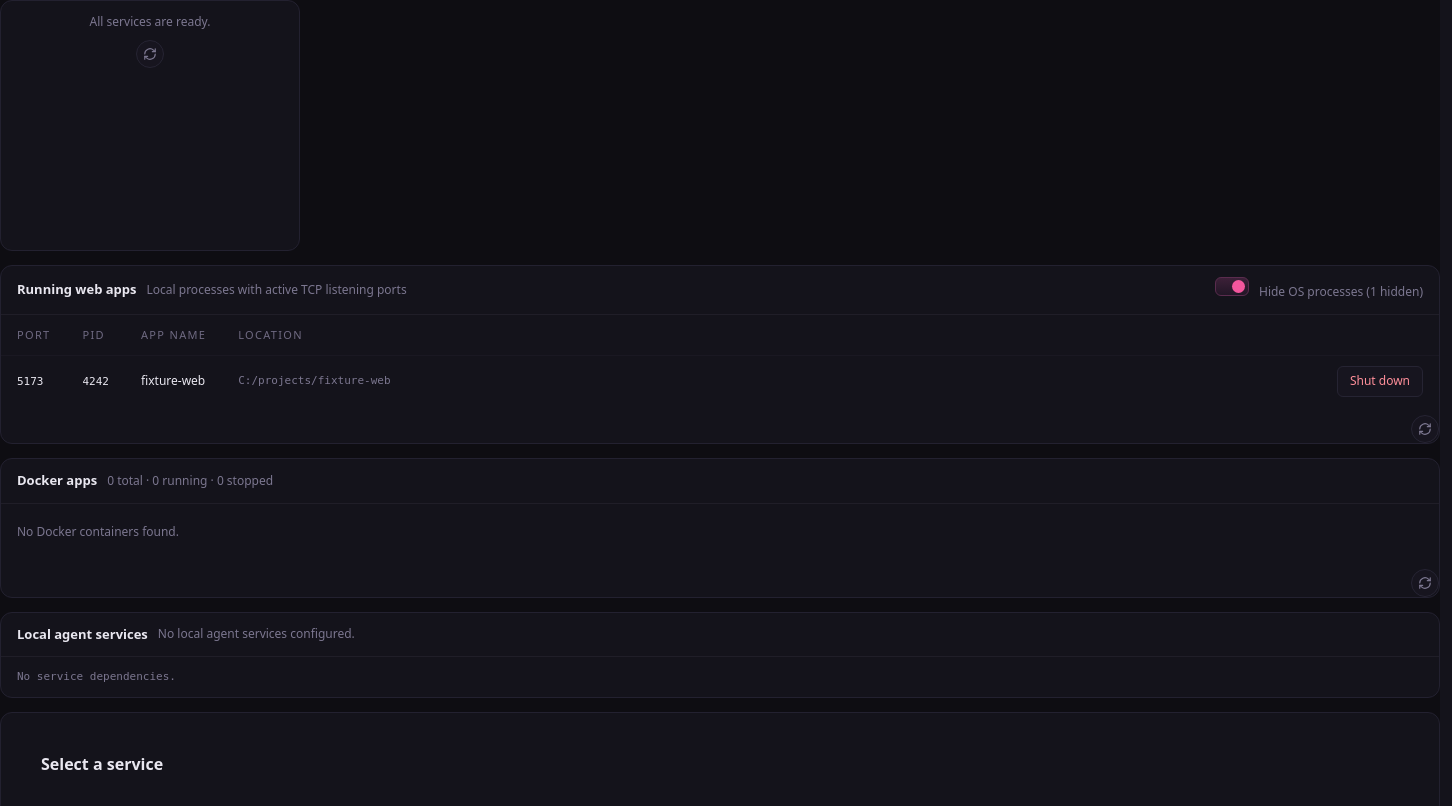
Test: MCP and service workflows › hides OS processes by default and reveals them when the filter is turned off
expect the text "fixture-web" is shown: met, box 125,356 -> 222,407
expect the text "svchost" is not shown: met
Click the switch named "Hide OS processes" at point(1232, 286), box 1215,277 -> 1249,296
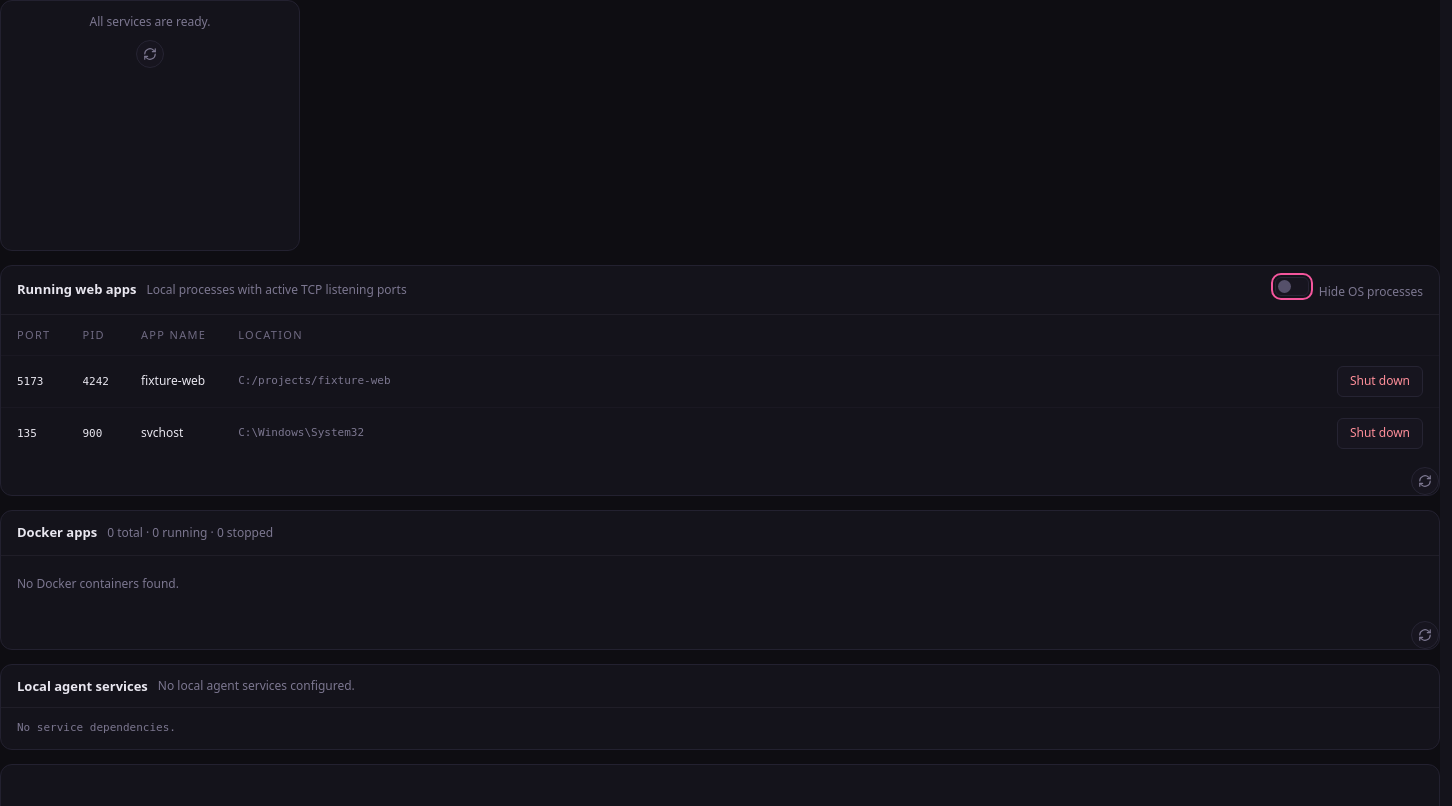
expect the text "fixture-web" is shown: met, box 125,356 -> 222,408
expect the text "svchost" is shown: met, box 125,408 -> 222,459
